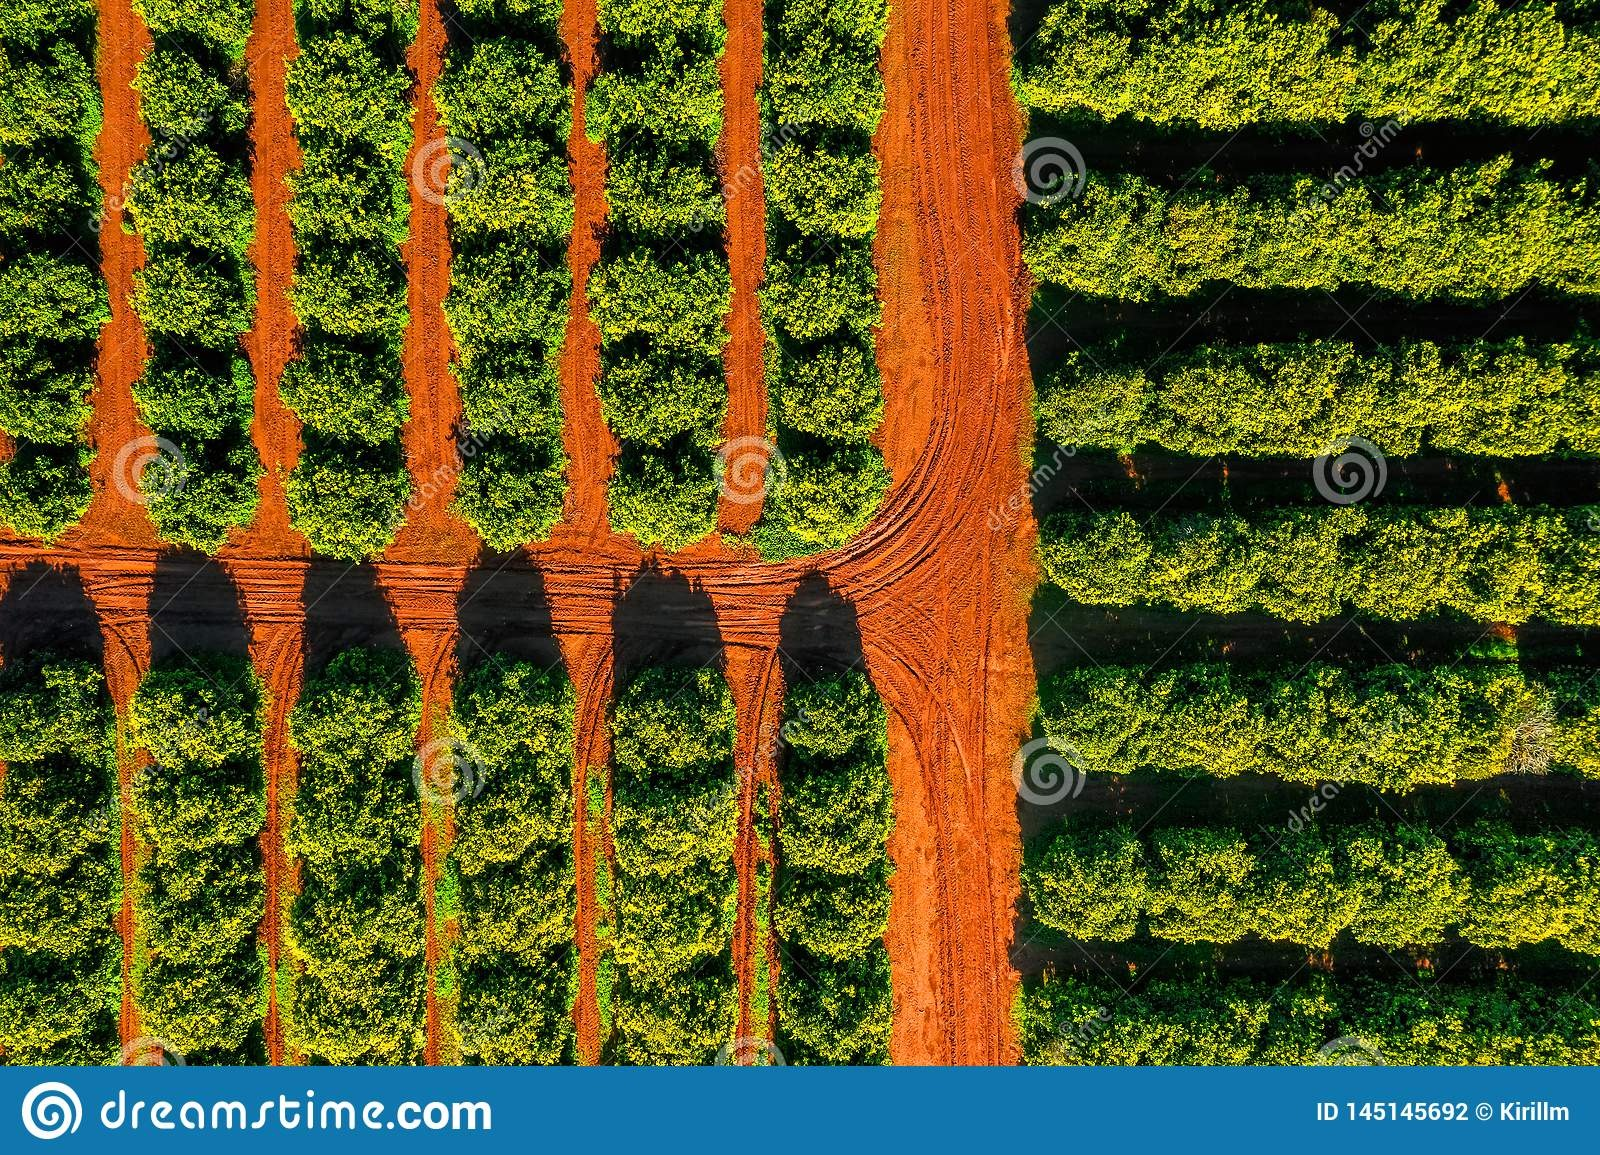TREE: (1384, 152, 1514, 302), (1024, 176, 1163, 303), (1020, 828, 1150, 948), (571, 55, 725, 154), (431, 41, 583, 139), (591, 251, 728, 355), (284, 34, 411, 145), (431, 247, 565, 351), (135, 669, 270, 772), (281, 881, 429, 972), (435, 144, 576, 238), (445, 977, 588, 1068), (1147, 16, 1263, 125), (1361, 830, 1470, 948), (605, 883, 739, 977), (122, 154, 253, 250), (1031, 364, 1152, 468), (711, 148, 834, 248), (1366, 2, 1471, 120), (1277, 180, 1380, 299), (617, 677, 737, 780), (1026, 6, 1135, 118), (458, 662, 573, 769), (280, 353, 409, 447), (286, 149, 411, 246), (135, 869, 266, 962), (291, 458, 411, 559), (1157, 669, 1265, 781), (4, 672, 120, 775), (1039, 668, 1148, 777), (299, 669, 421, 768), (127, 256, 258, 346), (147, 452, 262, 555), (282, 977, 431, 1057), (591, 356, 725, 445), (1155, 826, 1253, 946), (139, 967, 275, 1054), (1370, 340, 1468, 460), (1353, 513, 1458, 622), (600, 455, 720, 549), (748, 50, 886, 132), (1509, 179, 1600, 303), (7, 777, 119, 878), (1137, 977, 1266, 1064), (1263, 346, 1361, 460), (1267, 9, 1361, 125), (284, 255, 412, 340), (612, 792, 738, 879), (771, 974, 897, 1061), (1275, 669, 1369, 785), (1265, 507, 1360, 620), (1480, 830, 1564, 958), (455, 781, 575, 871), (1159, 359, 1261, 464), (1361, 671, 1448, 794), (1043, 510, 1147, 614), (1267, 832, 1359, 948), (448, 457, 566, 546), (1, 43, 103, 147), (1168, 191, 1268, 296), (1345, 981, 1470, 1066), (764, 455, 884, 541), (1466, 985, 1598, 1063), (780, 782, 891, 876), (769, 881, 894, 962), (766, 350, 878, 442), (1158, 515, 1258, 617), (763, 256, 883, 340), (293, 785, 422, 863), (1016, 977, 1130, 1066), (129, 57, 253, 138), (145, 774, 270, 854), (452, 887, 574, 969), (133, 363, 253, 445), (2, 982, 120, 1066), (1466, 518, 1552, 631), (1, 147, 104, 238), (602, 985, 725, 1062), (1483, 343, 1565, 457), (9, 255, 104, 351), (1453, 666, 1529, 786), (448, 364, 566, 440), (1, 452, 94, 546), (1, 363, 96, 448), (4, 893, 116, 965), (786, 683, 888, 759), (598, 2, 730, 51), (759, 1, 893, 47), (137, 1, 248, 51), (1, 1, 99, 51), (1283, 974, 1335, 1059), (1549, 707, 1600, 784), (294, 1, 424, 29), (1565, 532, 1600, 632), (1570, 832, 1596, 962), (1571, 342, 1600, 460)
